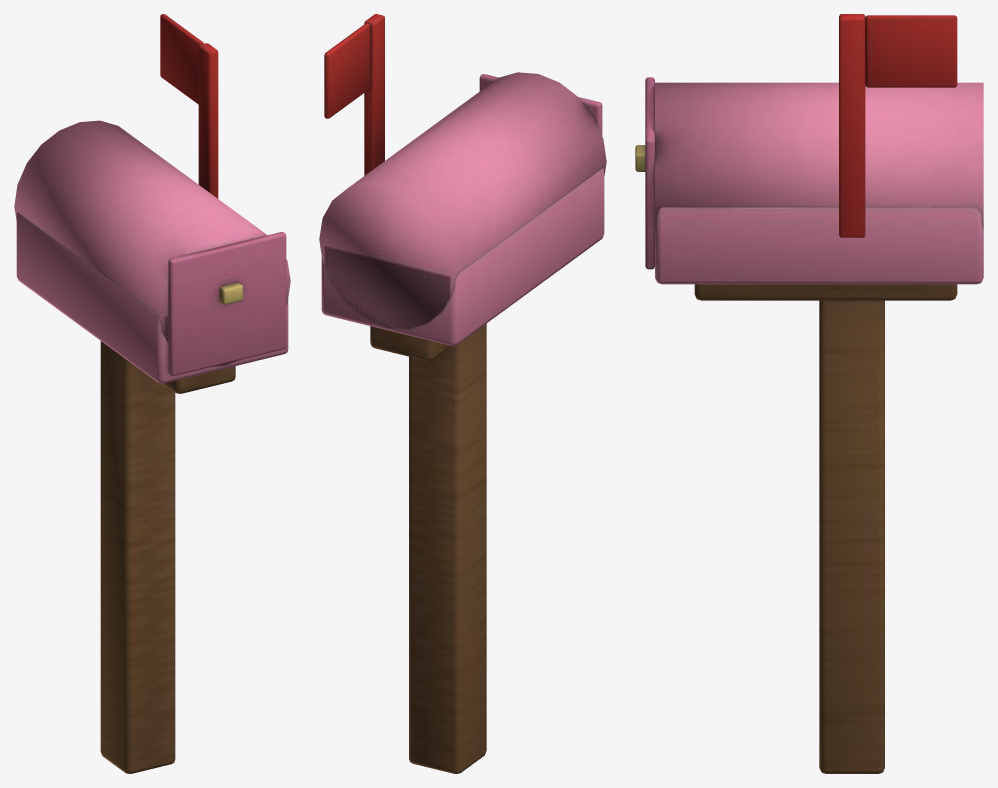
Rendered from mailbox_pink.glb.
The picture shows the model from 3 angles, left to right: view 1: azimuth 30°, elevation 25°; view 2: azimuth 150°, elevation 25°; view 3: azimuth 270°, elevation 25°; orthographic projection. The views are drawn at different scales.
Visible parts, largest first — view 1: mailbox_pink, mailbox_pink_flag; view 2: mailbox_pink, mailbox_pink_flag; view 3: mailbox_pink, mailbox_pink_flag.
Boxes of the visible parts, bbox=[...] form: mailbox_pink: bbox=[14, 120, 290, 773]; mailbox_pink_flag: bbox=[160, 14, 218, 198]; mailbox_pink: bbox=[319, 72, 606, 773]; mailbox_pink_flag: bbox=[324, 14, 384, 175]; mailbox_pink: bbox=[635, 77, 983, 773]; mailbox_pink_flag: bbox=[839, 14, 957, 237].
Size of the model in its own units: 0.28 by 1.32 by 0.53.
Materials: 5 (5 with a texture image).
